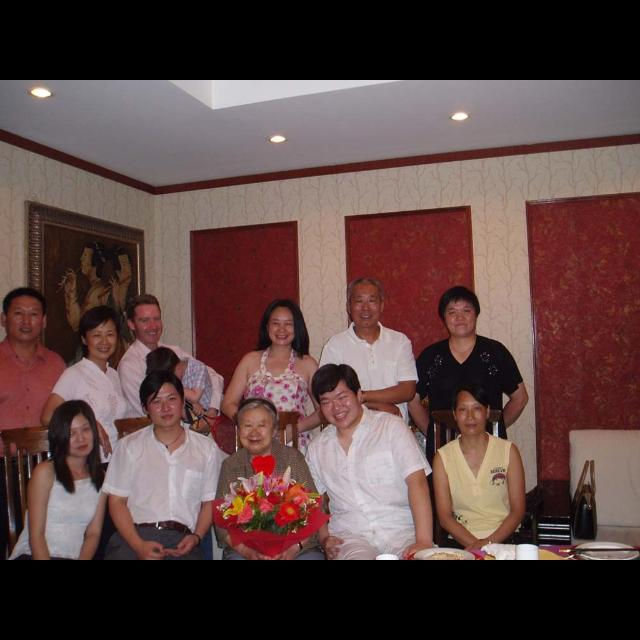Flower: (217, 453, 309, 525), (278, 501, 298, 522)
